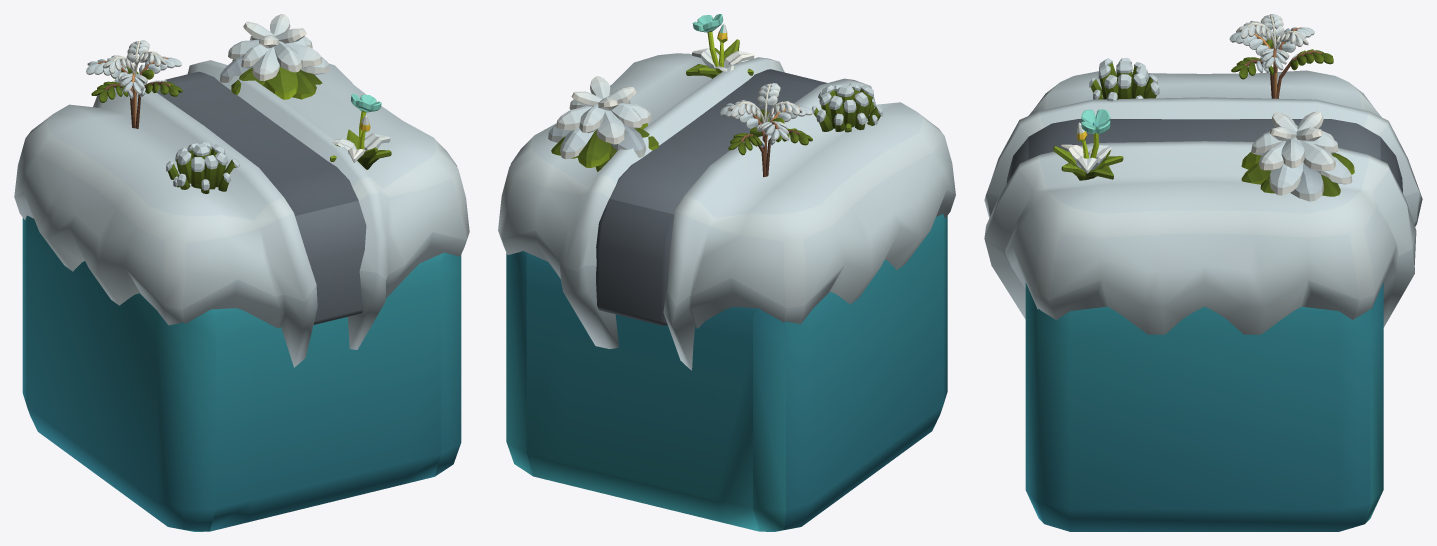
Rendered from Winter1.fbx.
3 views of the same model, side by side, from view 1: azimuth 30°, elevation 25°; view 2: azimuth 150°, elevation 25°; view 3: azimuth 270°, elevation 25° (orthographic). The views are drawn at different scales.
Visible parts, largest first — view 1: Winter1, Winter_Cube1.002, Road1, Winter_Cube_01.003; view 2: Winter1, Winter_Cube1.002, Road1, Winter_Cube_01.003; view 3: Winter_Cube1.002, Winter1, Winter_Cube_01.003, Road1.
Part boxes in pixels (x1=…): Winter1: x1=22, y1=215, x2=461, y2=531; Winter_Cube1.002: x1=14, y1=60, x2=469, y2=367; Road1: x1=144, y1=71, x2=366, y2=324; Winter_Cube_01.003: x1=86, y1=14, x2=391, y2=193; Winter1: x1=506, y1=214, x2=947, y2=531; Winter_Cube1.002: x1=498, y1=53, x2=955, y2=370; Road1: x1=596, y1=69, x2=826, y2=325; Winter_Cube_01.003: x1=548, y1=14, x2=882, y2=176; Winter_Cube1.002: x1=984, y1=70, x2=1422, y2=334; Winter1: x1=1025, y1=282, x2=1383, y2=531; Winter_Cube_01.003: x1=1053, y1=14, x2=1354, y2=201; Road1: x1=1006, y1=119, x2=1402, y2=192.
Size of the model in its own units: 116 by 129 by 122.
